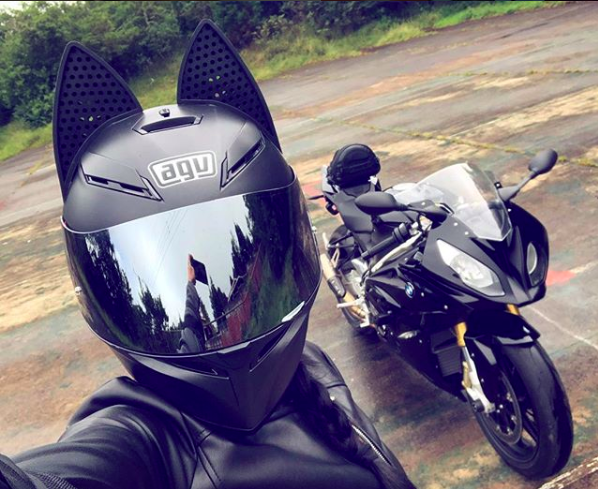with_helmet: (45, 17, 326, 437)
